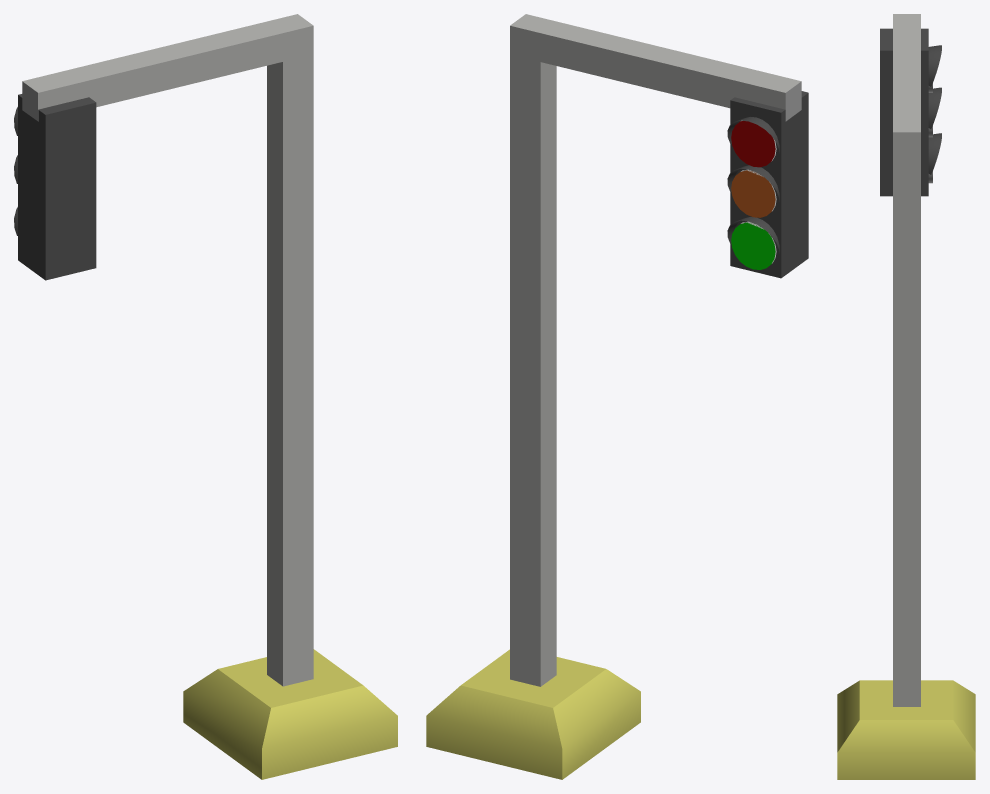
File: traffic light.fbx
3 views of the same model, side by side, from view 1: azimuth 30°, elevation 25°; view 2: azimuth 150°, elevation 25°; view 3: azimuth 270°, elevation 25° (orthographic). The views are drawn at different scales.
Parts seen in each view (by area): view 1: polySurface6; view 2: polySurface6; view 3: polySurface6.
Part boxes in pixels (x1,y1,x2,y2): polySurface6: (14, 14, 397, 779); polySurface6: (426, 14, 808, 779); polySurface6: (837, 14, 975, 779).
Size of the model in its own units: 3.56 by 7.35 by 1.47.
